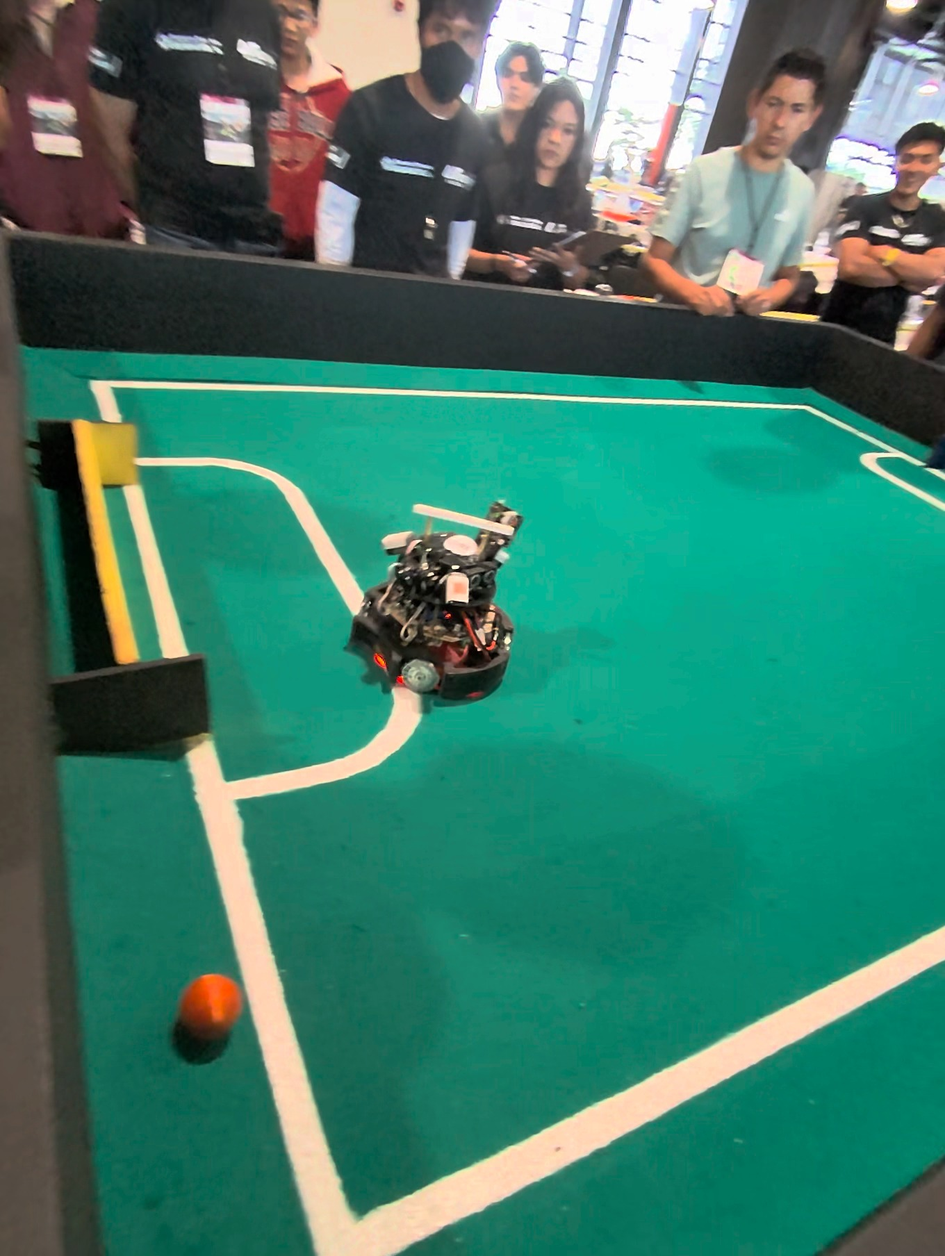Robot: (349, 482, 526, 718)
pelota: (174, 976, 244, 1065)
